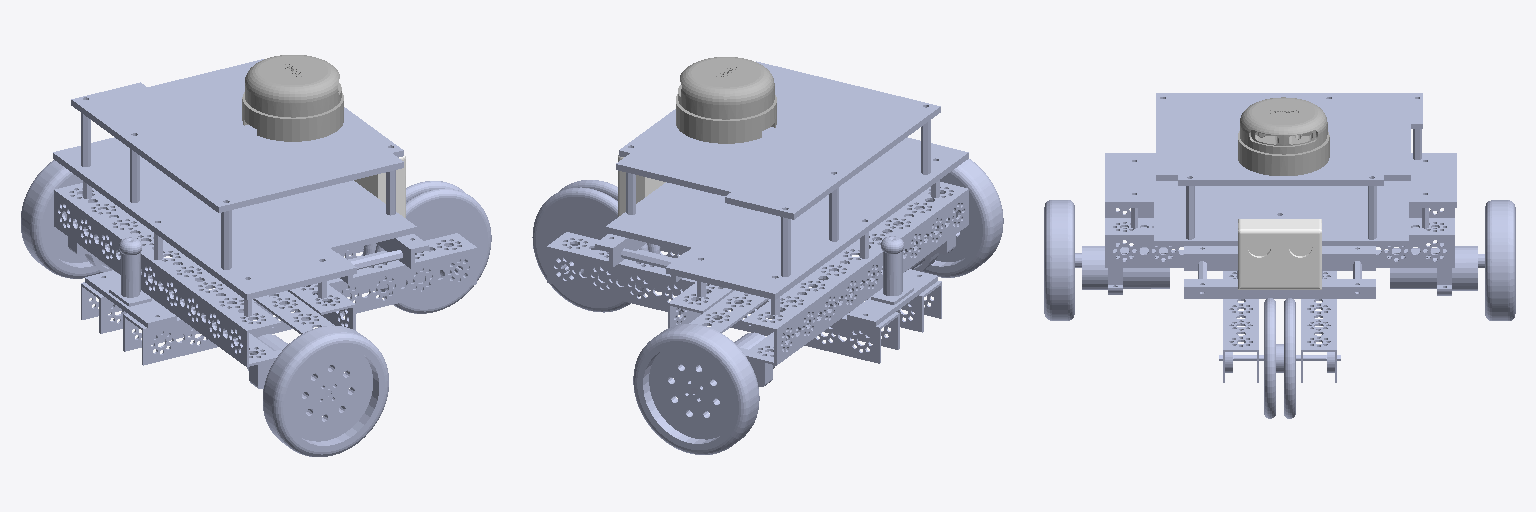
URDF robot description (autobot):
<!-- <?xml version="1.0" encoding="utf-8"?> -->
<!-- This URDF was automatically created by SolidWorks to URDF Exporter! Originally created by [author] ([email redacted]) 
     Commit Version: 1.6.0-4-g7f85cfe  Build Version: 1.6.7995.38578
     For more information, please see http://wiki.ros.org/sw_urdf_exporter -->
<robot
  name="autobot">
  <link
    name="base_link">
    <inertial>
      <origin
        xyz="0.012692 0.0050409 -0.025738"
        rpy="0 0 0" />
      <mass
        value="0.8044" />
      <inertia
        ixx="0.0026664"
        ixy="1.82E-05"
        ixz="2.9353E-07"
        iyy="0.0015515"
        iyz="6.5283E-11"
        izz="0.0041284" />
    </inertial>
    <visual>
      <origin
        xyz="0 0 0"
        rpy="0 0 0" />
      <geometry>
        <mesh
          filename="package://autobot/meshes/base_link.STL" />
      </geometry>
      <material
        name="">
        <color
          rgba="0.79216 0.81961 0.93333 1" />
      </material>
    </visual>
    <collision>
      <origin
        xyz="0 0 0"
        rpy="0 0 0" />
      <geometry>
        <mesh
          filename="package://autobot/meshes/base_link.STL" />
      </geometry>
    </collision>
  </link>
  <link
    name="right_wheel">
    <inertial>
      <origin
        xyz="-1.1077E-07 0.0035 -8.1377E-05"
        rpy="0 0 0" />
      <mass
        value="0.10364" />
      <inertia
        ixx="8.7625E-05"
        ixy="1.349E-18"
        ixz="-1.8576E-20"
        iyy="0.00016817"
        iyz="-3.0937E-19"
        izz="8.7625E-05" />
    </inertial>
    <visual>
      <origin
        xyz="0 0 0"
        rpy="0 0 0" />
      <geometry>
        <mesh
          filename="package://autobot/meshes/right_wheel.STL" />
      </geometry>
      <material
        name="">
        <color
          rgba="0.79608 0.82353 0.93725 1" />
      </material>
    </visual>
    <collision>
      <origin
        xyz="0 0 0"
        rpy="0 0 0" />
      <geometry>
        <mesh
          filename="package://autobot/meshes/right_wheel.STL" />
      </geometry>
    </collision>
  </link>
  <joint
    name="right_wheel_joint"
    type="continuous">
    <origin
      xyz="-0.016418 -0.18164 -0.079762"
      rpy="0 0 0" />
    <parent
      link="base_link" />
    <child
      link="right_wheel" />
    <axis
      xyz="0 1 0" />
    <limit
      effort="10"
      velocity="10" />
    <dynamics
      damping="0.1"
      friction="0.1" />
  </joint>
  <link
    name="left_wheel">
    <inertial>
      <origin
        xyz="-1.534E-06 -0.0035 -8.1363E-05"
        rpy="0 0 0" />
      <mass
        value="0.10364" />
      <inertia
        ixx="8.7625E-05"
        ixy="1.3327E-18"
        ixz="2.4026E-21"
        iyy="0.00016817"
        iyz="-2.6053E-19"
        izz="8.7625E-05" />
    </inertial>
    <visual>
      <origin
        xyz="0 0 0"
        rpy="0 0 0" />
      <geometry>
        <mesh
          filename="package://autobot/meshes/left_wheel.STL" />
      </geometry>
      <material
        name="">
        <color
          rgba="0.79608 0.82353 0.93725 1" />
      </material>
    </visual>
    <collision>
      <origin
        xyz="0 0 0"
        rpy="0 0 0" />
      <geometry>
        <mesh
          filename="package://autobot/meshes/left_wheel.STL" />
      </geometry>
    </collision>
  </link>
  <joint
    name="left_wheel_joint"
    type="continuous">
    <origin
      xyz="-0.015294 0.18886 -0.079763"
      rpy="0 0 0" />
    <parent
      link="base_link" />
    <child
      link="left_wheel" />
    <axis
      xyz="0 -1 0" />
    <limit
      effort="10"
      velocity="10" />
    <dynamics
      damping="0.1"
      friction="0.1" />
  </joint>
  <link
    name="castor_wheels">
    <inertial>
      <origin
        xyz="5.5511E-17 7.6762E-16 4.1633E-17"
        rpy="0 0 0" />
      <mass
        value="0.14848" />
      <inertia
        ixx="9.1441E-05"
        ixy="1.239E-18"
        ixz="3.9667E-21"
        iyy="0.00018051"
        iyz="-1.6989E-19"
        izz="9.1441E-05" />
    </inertial>
    <visual>
      <origin
        xyz="0 0 0"
        rpy="0 0 0" />
      <geometry>
        <mesh
          filename="package://autobot/meshes/castor_wheels.STL" />
      </geometry>
      <material
        name="">
        <color
          rgba="0.79216 0.81961 0.93333 1" />
      </material>
    </visual>
    <collision>
      <origin
        xyz="0 0 0"
        rpy="0 0 0" />
      <geometry>
        <mesh
          filename="package://autobot/meshes/castor_wheels.STL" />
      </geometry>
    </collision>
  </link>
  <joint
    name="castor_wheels_joint"
    type="fixed">
    <origin
      xyz="0.17607 0.003608 -0.079343"
      rpy="0 0 0" />
    <parent
      link="base_link" />
    <child
      link="castor_wheels" />
    <axis
      xyz="0 0 0" />
    <limit
      effort="10"
      velocity="10" />
  </joint>
  <link
    name="lidar">
    <inertial>
      <origin
        xyz="-0.002361 -1.4968E-05 0.019299"
        rpy="0 0 0" />
      <mass
        value="0.16538" />
      <inertia
        ixx="7.8866E-05"
        ixy="4.8738E-08"
        ixz="2.1848E-06"
        iyy="7.519E-05"
        iyz="2.8958E-08"
        izz="0.00010995" />
    </inertial>
    <visual>
      <origin
        xyz="0 0 0"
        rpy="0 0 0" />
      <geometry>
        <mesh
          filename="package://autobot/meshes/lidar.STL" />
      </geometry>
      <material
        name="">
        <color
          rgba="0.75294 0.75294 0.75294 0.4" />
      </material>
    </visual>
    <collision>
      <origin
        xyz="0 0 0"
        rpy="0 0 0" />
      <geometry>
        <mesh
          filename="package://autobot/meshes/lidar.STL" />
      </geometry>
    </collision>
  </link>
  <joint
    name="lidar_joint"
    type="fixed">
    <origin
      xyz="0.063868 0.006608 0.050657"
      rpy="0 0 0" />
    <parent
      link="base_link" />
    <child
      link="lidar" />
    <axis
      xyz="0 0 0" />
  </joint>
  <link
    name="camera">
    <inertial>
      <origin
        xyz="0.0012481 5.1998E-08 0.027201"
        rpy="0 0 0" />
      <mass
        value="0.12075" />
      <inertia
        ixx="7.9562E-05"
        ixy="-9.7058E-11"
        ixz="2.8913E-07"
        iyy="3.6327E-05"
        iyz="1.351E-10"
        izz="5.533E-05" />
    </inertial>
    <visual>
      <origin
        xyz="0 0 0"
        rpy="0 0 0" />
      <geometry>
        <mesh
          filename="package://autobot/meshes/camera.STL" />
      </geometry>
      <material
        name="">
        <color
          rgba="1 1 1 1" />
      </material>
    </visual>
    <collision>
      <origin
        xyz="0 0 0"
        rpy="0 0 0" />
      <geometry>
        <mesh
          filename="package://autobot/meshes/camera.STL" />
      </geometry>
    </collision>
  </link>
  <joint
    name="camera_joint"
    type="fixed">
    <origin
      xyz="0.12456 0.003608 -0.035343"
      rpy="0 0 0" />
    <parent
      link="base_link" />
    <child
      link="camera" />
    <axis
      xyz="0 0 0" />
  </joint>
</robot>

--- What the picture shows (computed from the rendered views, not written in the file) ---
3 views of the same robot in one strip: view 1: azimuth 30°, elevation 25°; view 2: azimuth 150°, elevation 25°; view 3: azimuth 270°, elevation 25° (orthographic).
Model autobot with 6 links and 5 joints (2 continuous, 3 fixed), rooted at base_link, posed every joint at zero.
Links seen in each view (by area): view 1: base_link, right_wheel, lidar, castor_wheels, left_wheel, camera; view 2: base_link, left_wheel, lidar, castor_wheels, right_wheel, camera; view 3: base_link, lidar, camera, right_wheel, left_wheel, castor_wheels.
Boxes of the visible links, box(x1,y1,x2,y2) form: base_link: box(53, 59, 476, 410); right_wheel: box(263, 325, 388, 456); lidar: box(242, 55, 343, 141); castor_wheels: box(363, 181, 491, 313); left_wheel: box(21, 160, 102, 278); camera: box(354, 155, 405, 217); base_link: box(547, 61, 968, 400); left_wheel: box(633, 324, 759, 454); lidar: box(676, 57, 776, 143); castor_wheels: box(532, 180, 660, 312); right_wheel: box(922, 159, 1003, 277); camera: box(618, 155, 665, 216); base_link: box(1075, 93, 1484, 382); lidar: box(1238, 97, 1329, 175); camera: box(1238, 219, 1321, 289); right_wheel: box(1044, 200, 1074, 320); left_wheel: box(1485, 200, 1515, 320); castor_wheels: box(1264, 298, 1295, 418).
Size in the robot's own frame: 0.322 by 0.3885 by 0.2215 metres.
6 mesh visuals loaded from 6 distinct referenced files (6 binary STL).